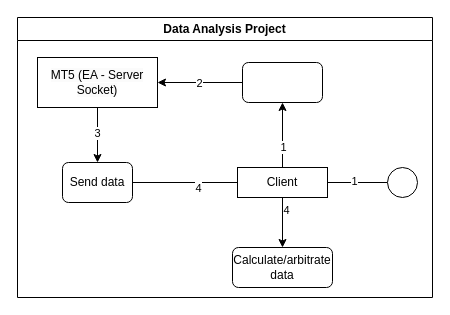
The diagram is 450 pixels wide and 315 high, and some of its shapes have lost their labels. Each missing label, with the centre of its shape:
Establish connection: point (282, 82)
Start: point (402, 182)
